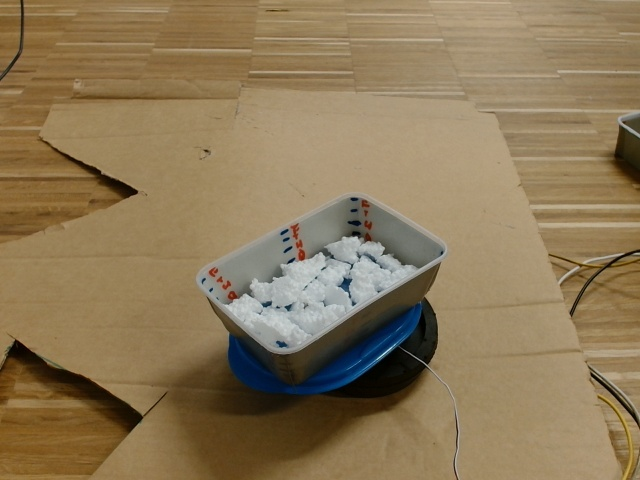Small_quarter: (198, 193, 445, 357)
